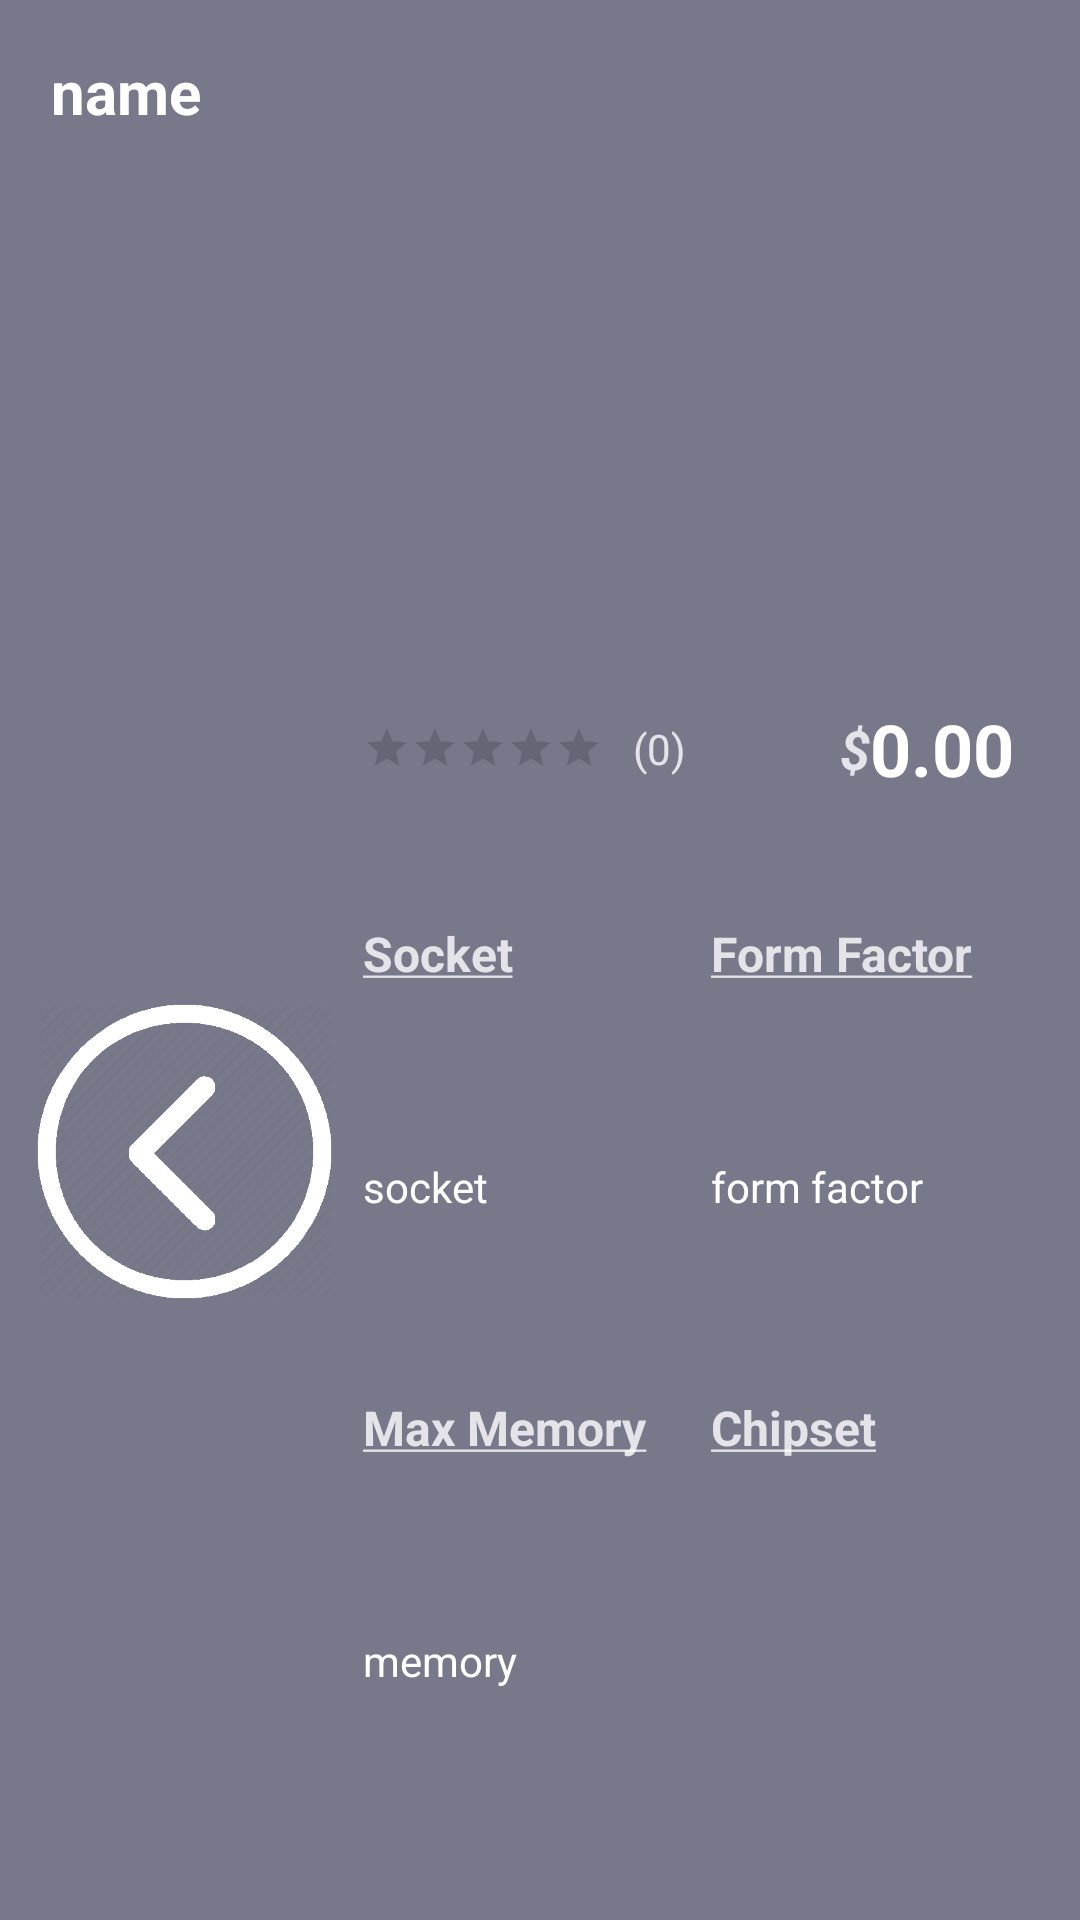

Point at icon controls on the screen. Image size 1080x1920, points as [x,y].
back: [184,1151]
